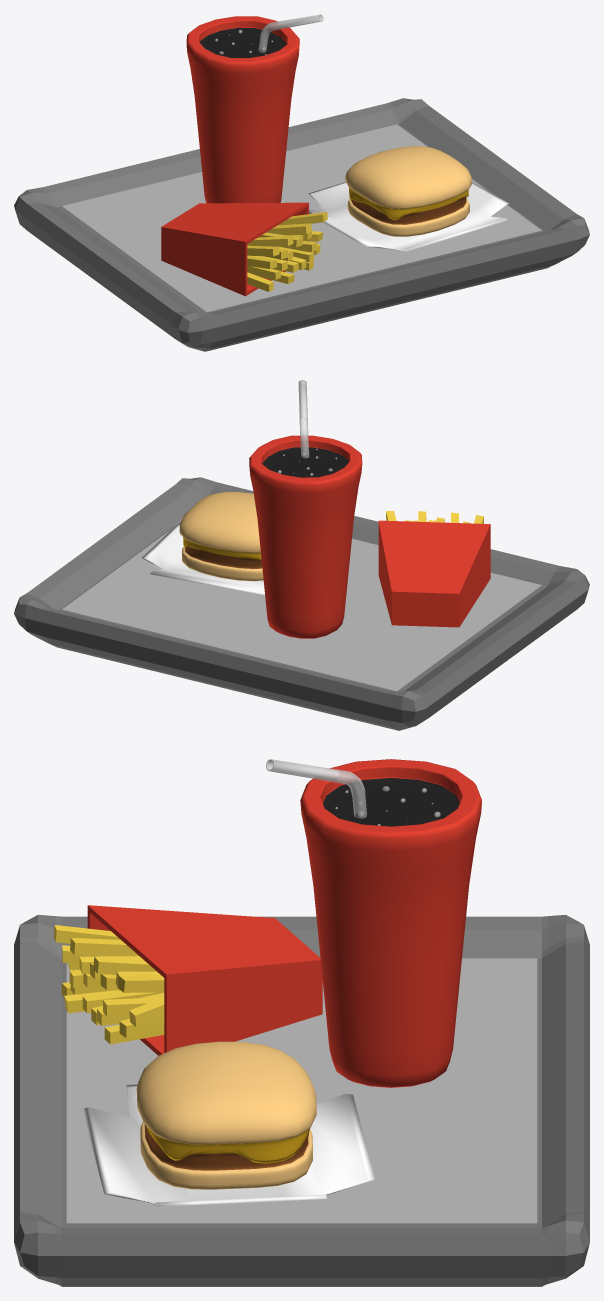
3 views of the same model, one above another, from view 1: azimuth 30°, elevation 25°; view 2: azimuth 150°, elevation 25°; view 3: azimuth 270°, elevation 25° (orthographic). The views are drawn at different scales.
Visible parts, largest first — view 1: Tray, Tray Paper, Cup, Fries, Burger, Burger Base; view 2: Tray, Tray Paper, Cup, Fries, Burger, Burger Base; view 3: Tray, Tray Paper, Cup, Fries, Burger, Burger Base.
Boxes of the visible parts, x1,y1,x2,y2 form: Tray: (14, 98, 589, 351); Tray Paper: (62, 124, 541, 312); Cup: (186, 14, 323, 203); Fries: (161, 202, 327, 296); Burger: (345, 146, 472, 236); Burger Base: (308, 181, 508, 251); Tray: (14, 477, 589, 730); Tray Paper: (62, 531, 541, 691); Cup: (249, 380, 362, 638); Fries: (378, 511, 490, 627); Burger: (179, 492, 263, 581); Burger Base: (142, 518, 264, 595); Tray: (14, 914, 589, 1286); Tray Paper: (66, 958, 537, 1223); Cup: (266, 759, 481, 1087); Fries: (53, 905, 322, 1055); Burger: (136, 1041, 316, 1189); Burger Base: (82, 1084, 374, 1206).
Bounding box in the file's own units: 0.8373 × 0.4796 × 0.628.
